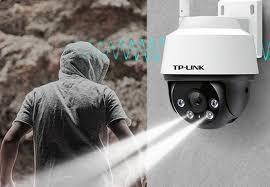maru: (159, 12, 262, 135)
